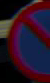No waiting: (8, 6, 47, 76)
